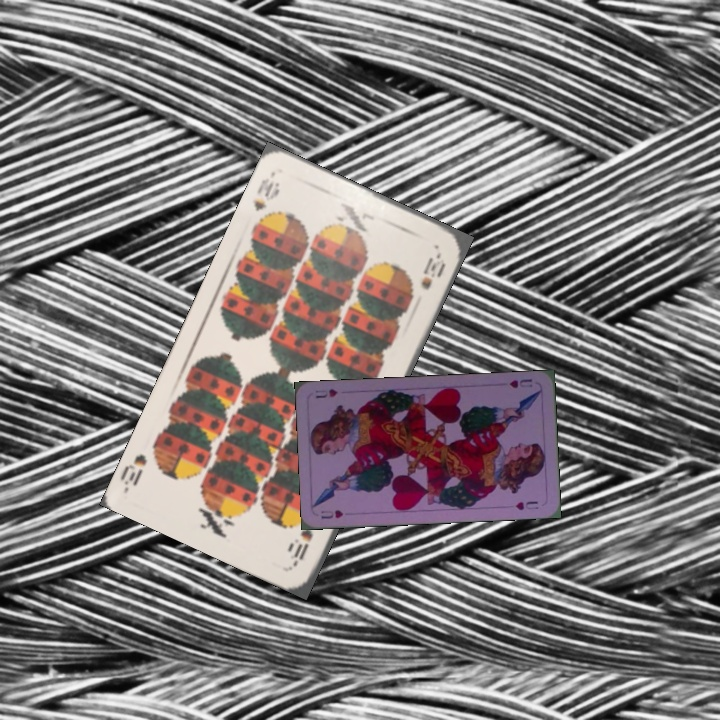HU: (505, 375, 535, 390), (317, 506, 346, 521)
S10: (249, 173, 283, 214), (289, 524, 316, 567)
